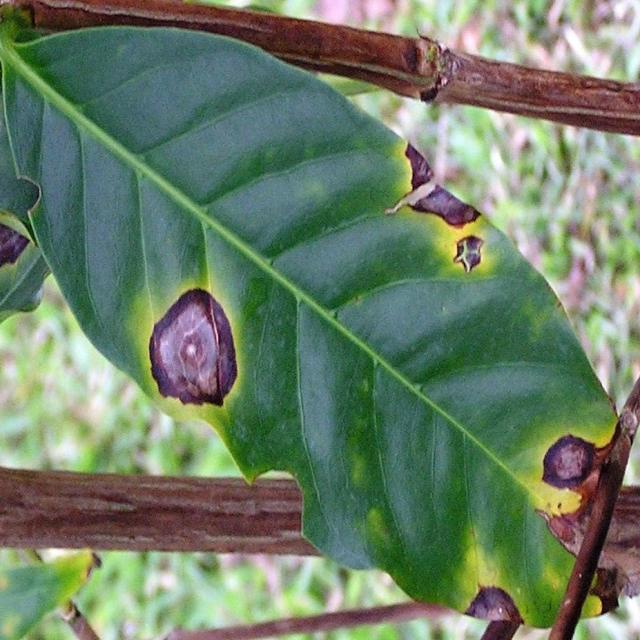Enfermedad-Mancha-de-hierro: (0, 11, 632, 632)
